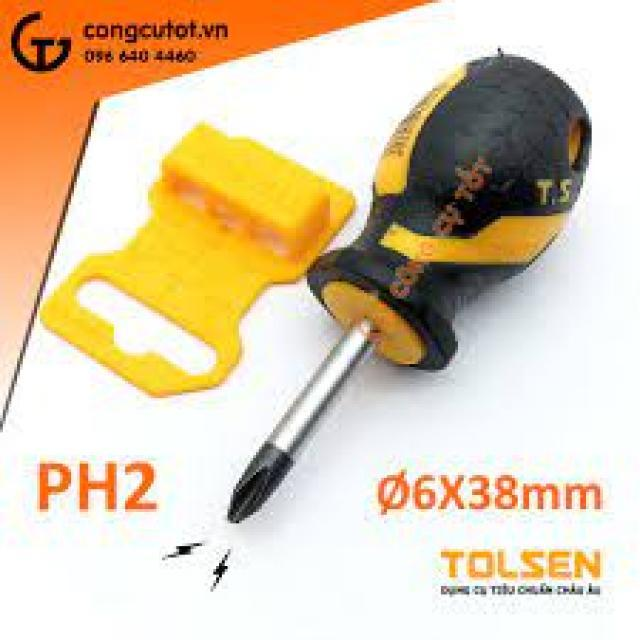screwdriver: (223, 52, 593, 530)
